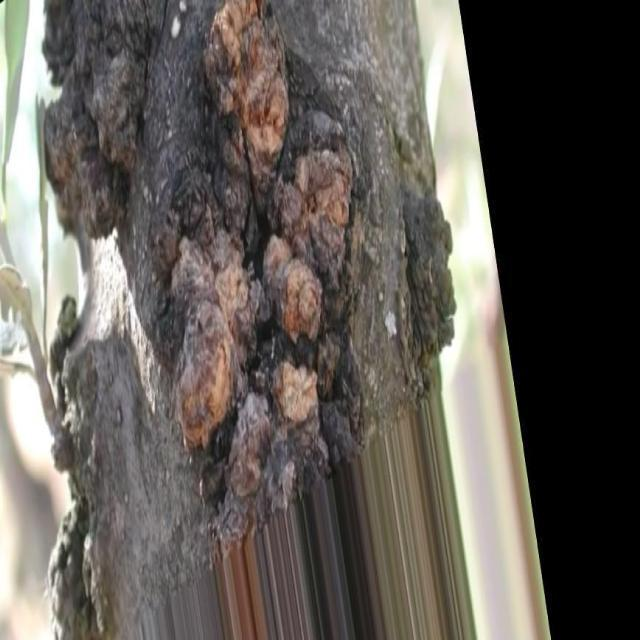Tuberculosis: (170, 218, 268, 450), (263, 112, 354, 342), (204, 0, 288, 207), (226, 362, 328, 518)
